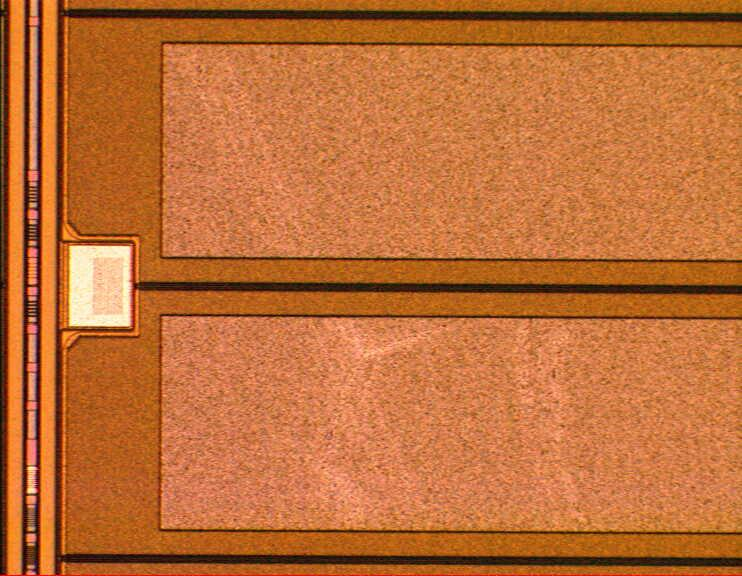SCRATCH: (161, 18, 590, 540)
